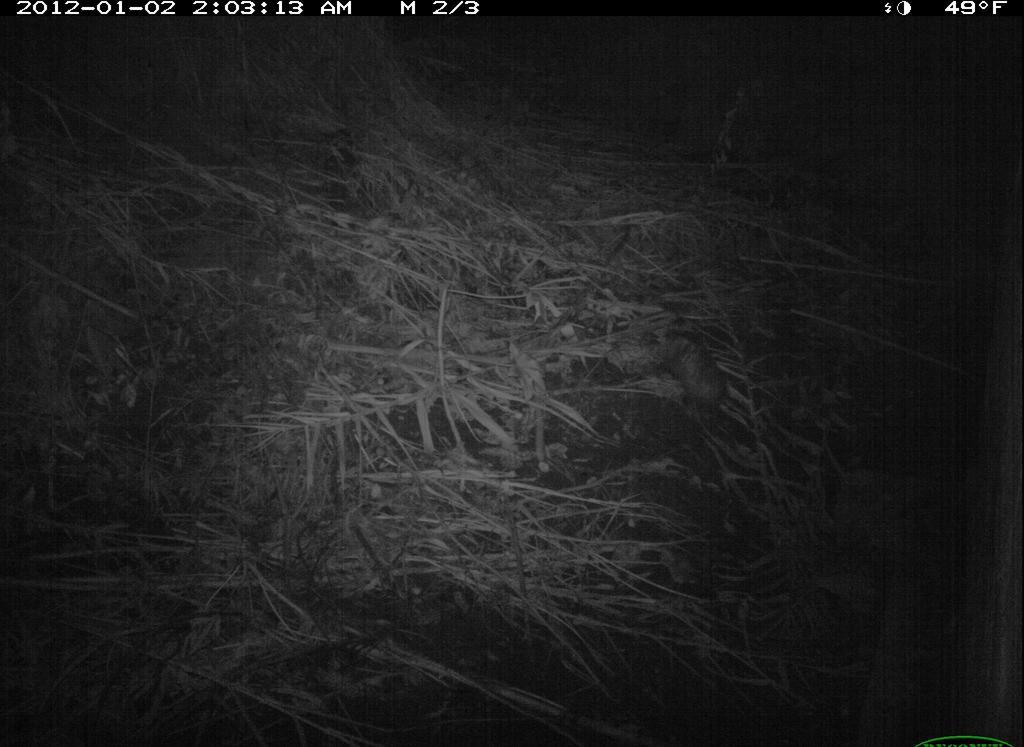opossum: (632, 309, 751, 420)
